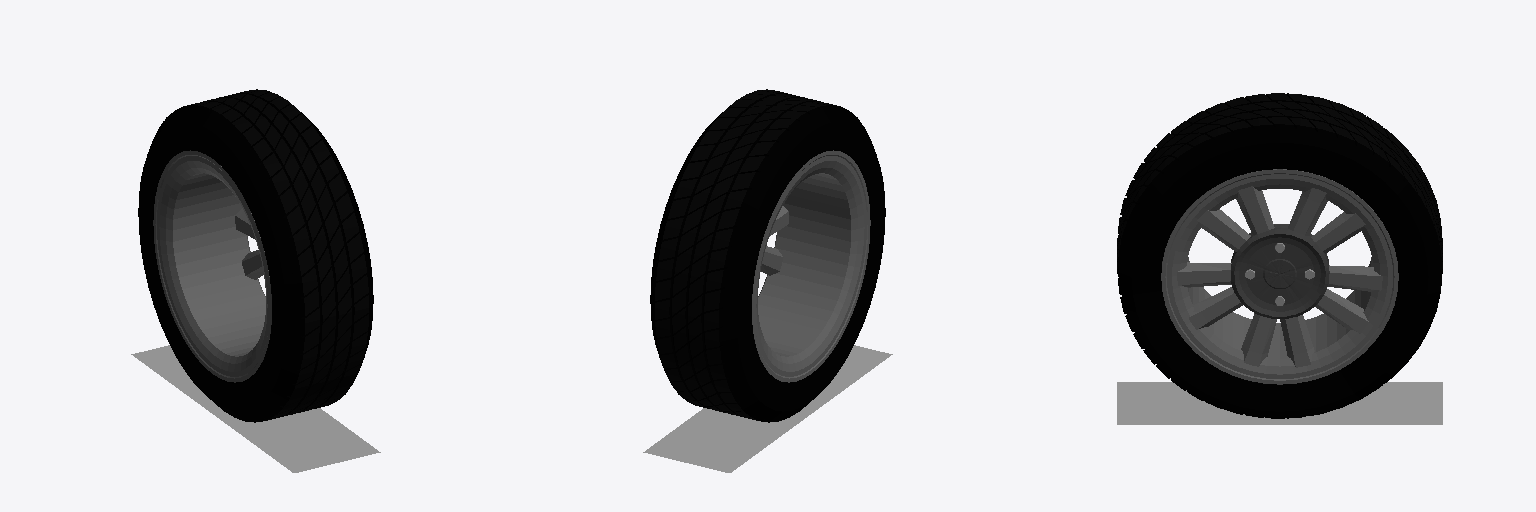
Rendered from Llanta.obj.
The picture shows the model from 3 angles: view 1: azimuth 30°, elevation 25°; view 2: azimuth 150°, elevation 25°; view 3: azimuth 270°, elevation 25°; orthographic projection.
Visible parts, largest first — view 1: roue_Cylinder_432_3, 5, roue_Cylinder_1992_4, ground_1, roue_Cylinder_2, 7; view 2: roue_Cylinder_432_3, 5, roue_Cylinder_1992_4, ground_1, roue_Cylinder_2, 7; view 3: roue_Cylinder_432_3, 5, 7, ground_1, roue_Cylinder_1992_4, 6, roue_Cylinder_2.
Boxes of the visible parts, <box> form: roue_Cylinder_432_3: <box>138,93,373,422</box>; 5: <box>153,150,271,382</box>; roue_Cylinder_1992_4: <box>187,89,368,420</box>; ground_1: <box>131,345,380,472</box>; roue_Cylinder_2: <box>163,90,369,421</box>; 7: <box>235,208,263,279</box>; roue_Cylinder_432_3: <box>650,93,885,422</box>; 5: <box>752,150,870,382</box>; roue_Cylinder_1992_4: <box>655,89,836,420</box>; ground_1: <box>643,345,892,472</box>; roue_Cylinder_2: <box>654,90,863,421</box>; 7: <box>761,206,788,275</box>; roue_Cylinder_432_3: <box>1117,100,1442,418</box>; 5: <box>1161,169,1398,384</box>; 7: <box>1177,186,1382,367</box>; ground_1: <box>1117,382,1442,424</box>; roue_Cylinder_1992_4: <box>1117,93,1442,268</box>; 6: <box>1231,224,1329,318</box>; roue_Cylinder_2: <box>1117,94,1442,417</box>.
Bounding box in the file's own units: 18.07 × 58.65 × 58.65.